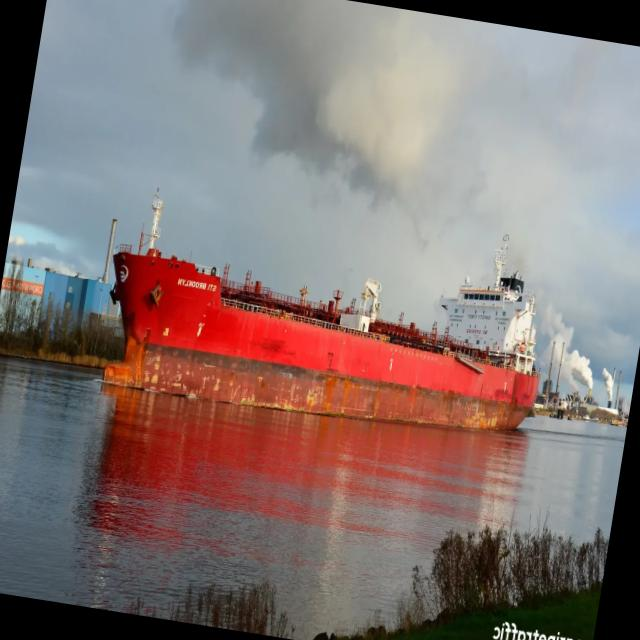Tanker: (105, 193, 540, 429)
